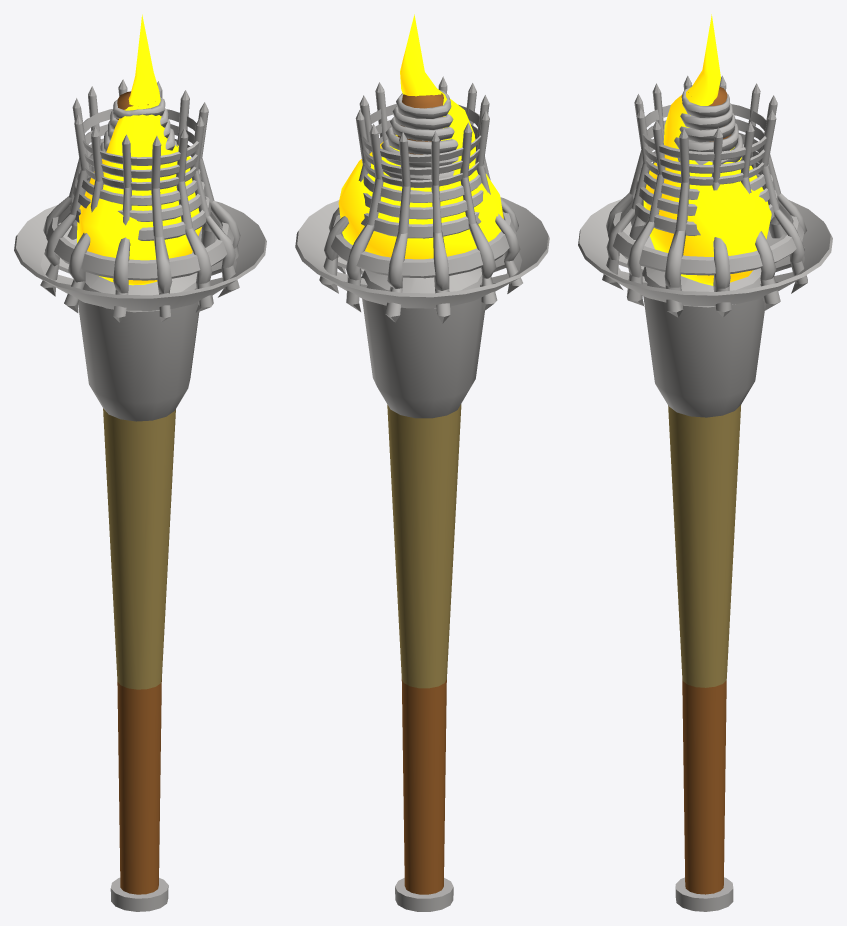
The model's file is burning_torch_3.glb.
The picture shows the model from 3 angles, left to right: view 1: azimuth 30°, elevation 25°; view 2: azimuth 150°, elevation 25°; view 3: azimuth 270°, elevation 25°; orthographic projection.
Parts seen in each view (by area): view 1: torch, flame; view 2: torch, flame; view 3: torch, flame.
Boxes of the visible parts, x1,y1,x2,y2 form: torch: (14,79,266,911); flame: (77,14,201,285); torch: (295,76,549,911); flame: (338,14,503,259); torch: (578,75,832,911); flame: (643,14,771,285).
Size of the model in its own units: 2.36 by 9.06 by 2.36.
